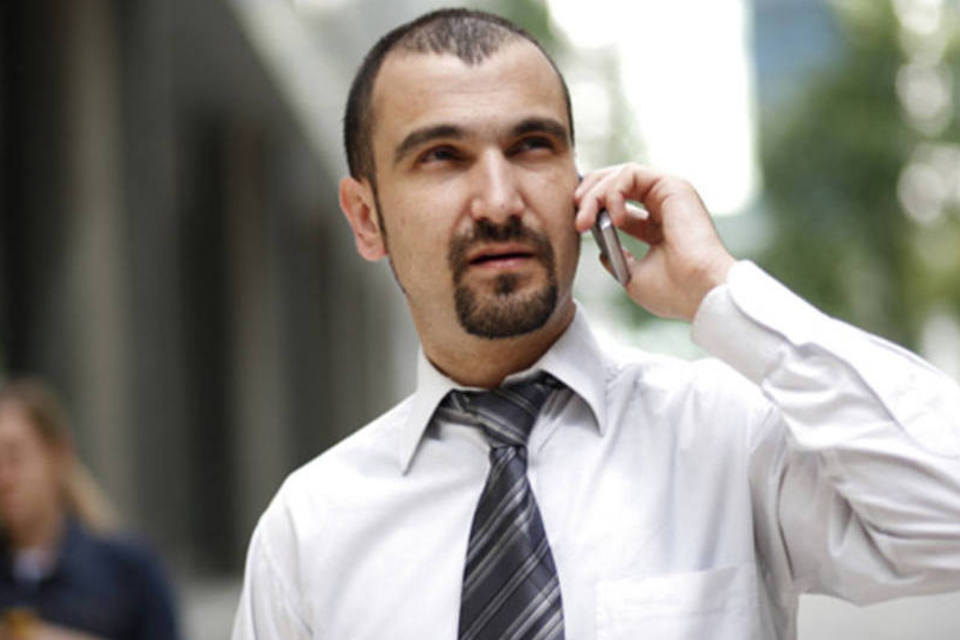phone: (560, 155, 656, 315)
talk: (386, 98, 718, 372)
